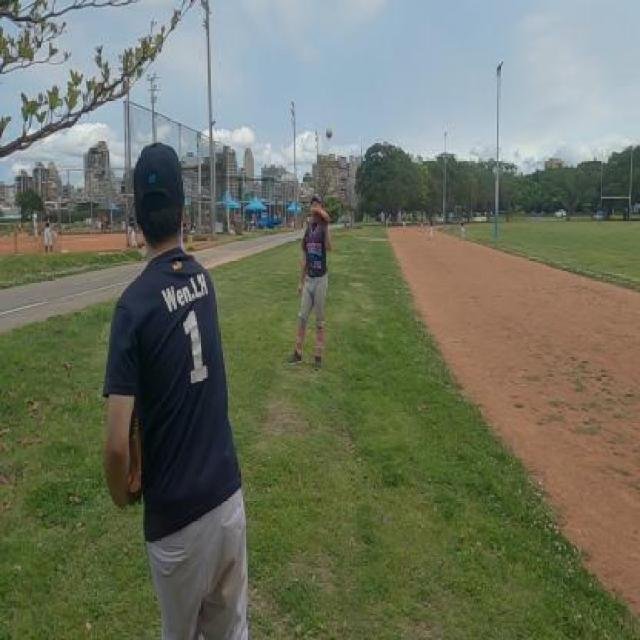baseball: (325, 126, 333, 140)
